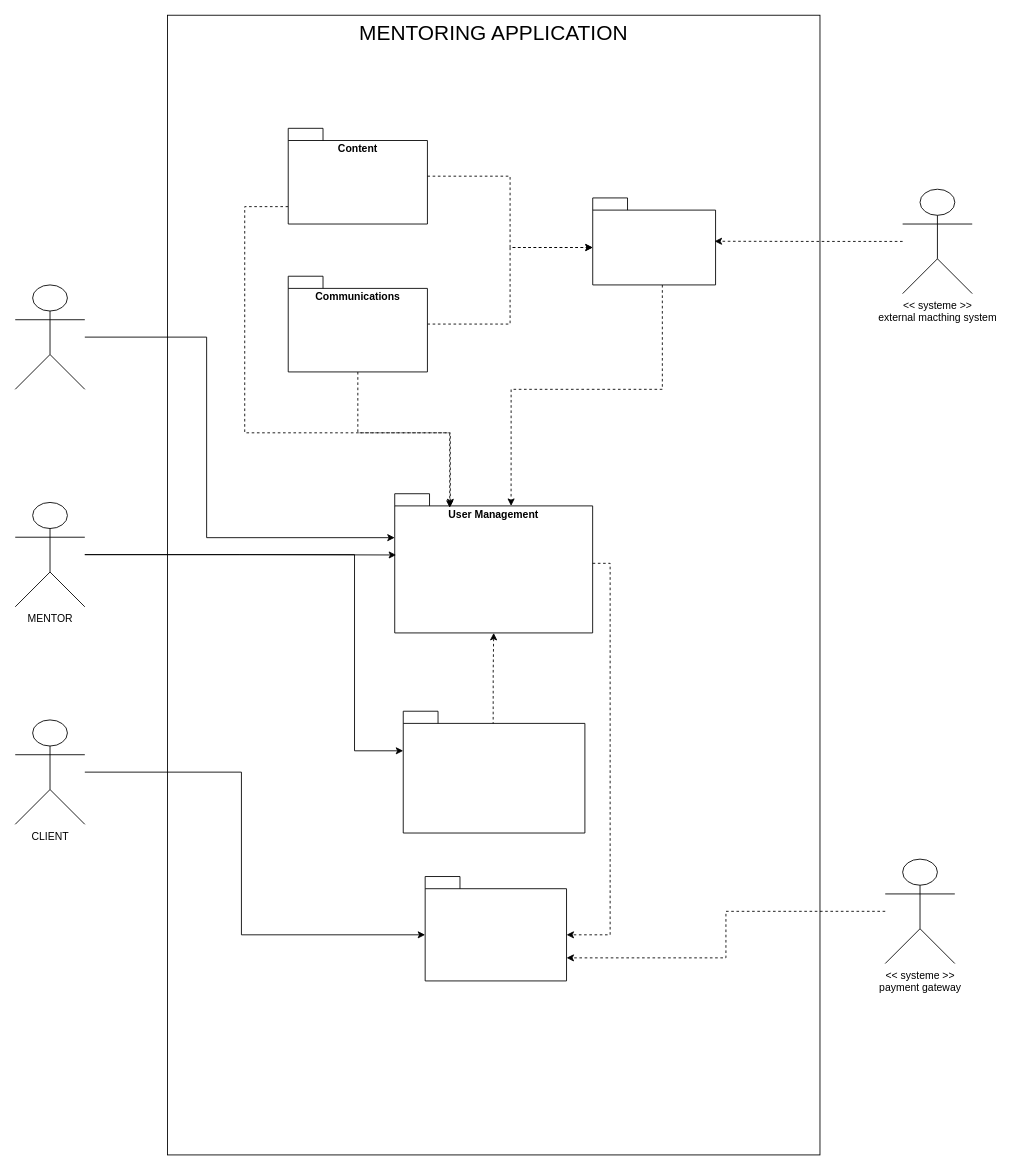
The diagram is 1012 pixels wide and 1170 high, and some of its shapes have lost their labels. Here are the shapes that lost their labels. From the top down, the centre of each, then its label:
the point at 654,241: Mentorship
the point at 49,336: MENTEE
the point at 493,771: Admin
the point at 495,928: Payment
